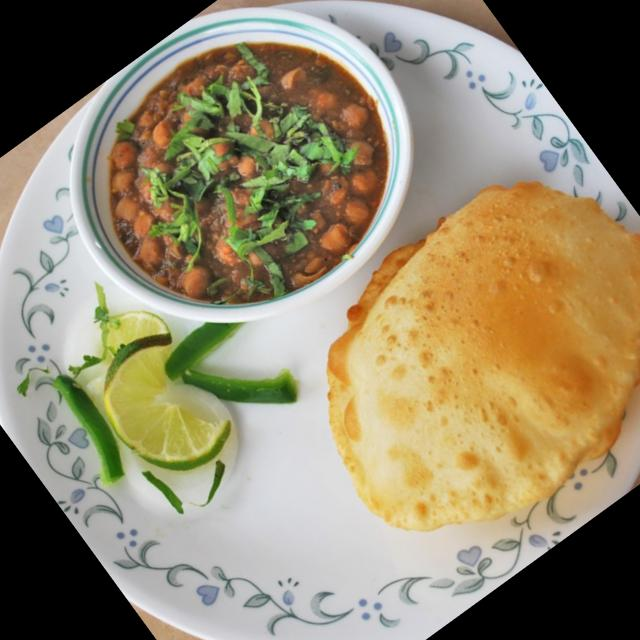Bhatura: (251, 116, 640, 586)
Chole: (56, 0, 435, 355)
